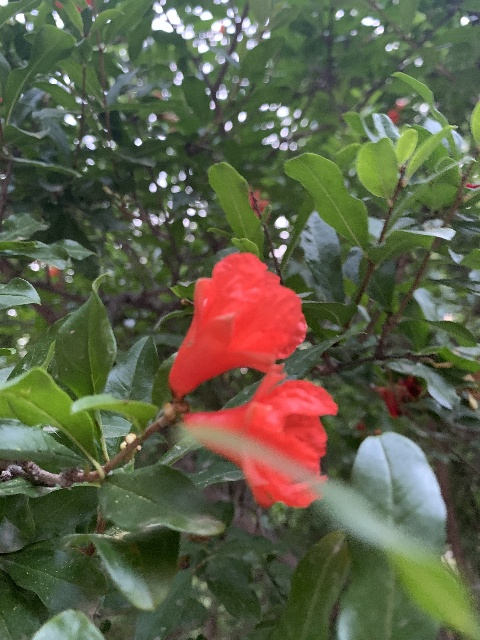flower: (181, 371, 337, 509), (168, 250, 307, 399)
